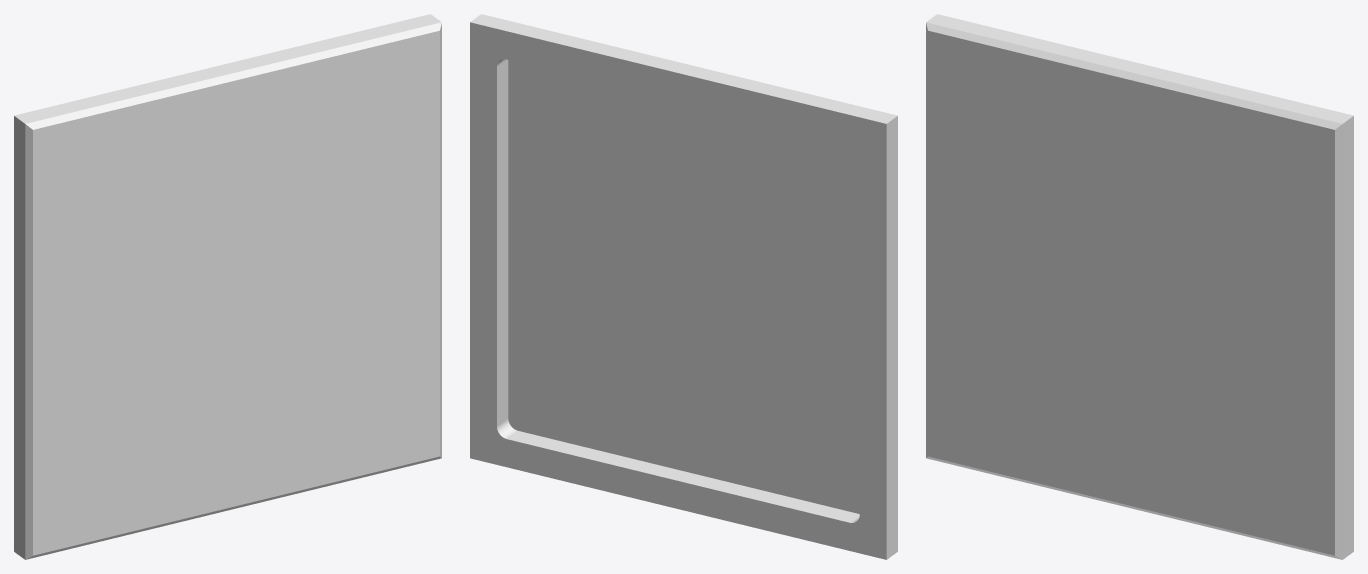
Rendered from BlancMat.glb.
3 renders of one model, left to right at view 1: azimuth 30°, elevation 25°; view 2: azimuth 150°, elevation 25°; view 3: azimuth 330°, elevation 25°, orthographic.
Parts seen in each view (by area): view 1: 1; view 2: 1; view 3: 1.
Part boxes in pixels (x1,y1,x2,y2): 1: (14,14,441,559); 1: (470,14,897,559); 1: (926,14,1353,559).
Bounding box in the file's own units: 0.085 × 0.085 × 0.005.
1 material, 1 textured.
